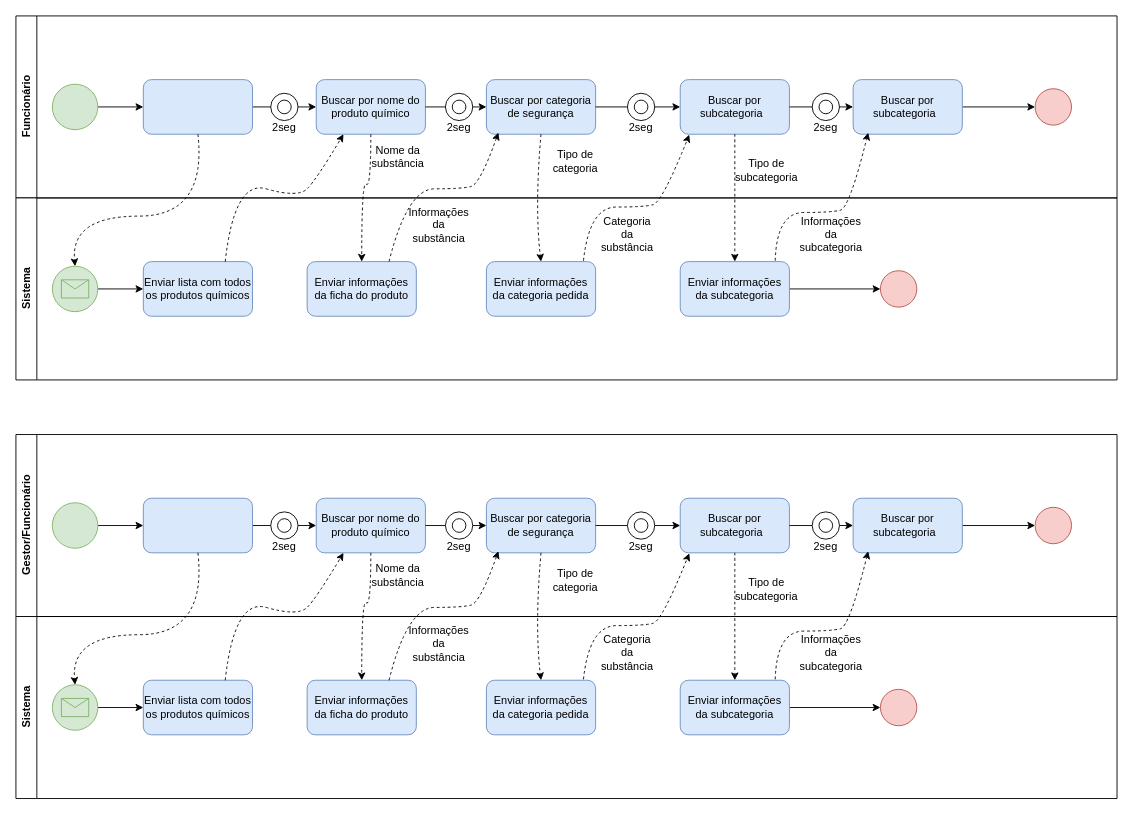
Image size: 1133x814. Some labels were removed from this diagram. Here are the shapes that lost their labels. From the top down, the centre of each, then its label:
point (197, 106): Consultar os produtos químicos
point (197, 525): Envia informações de cadastro
